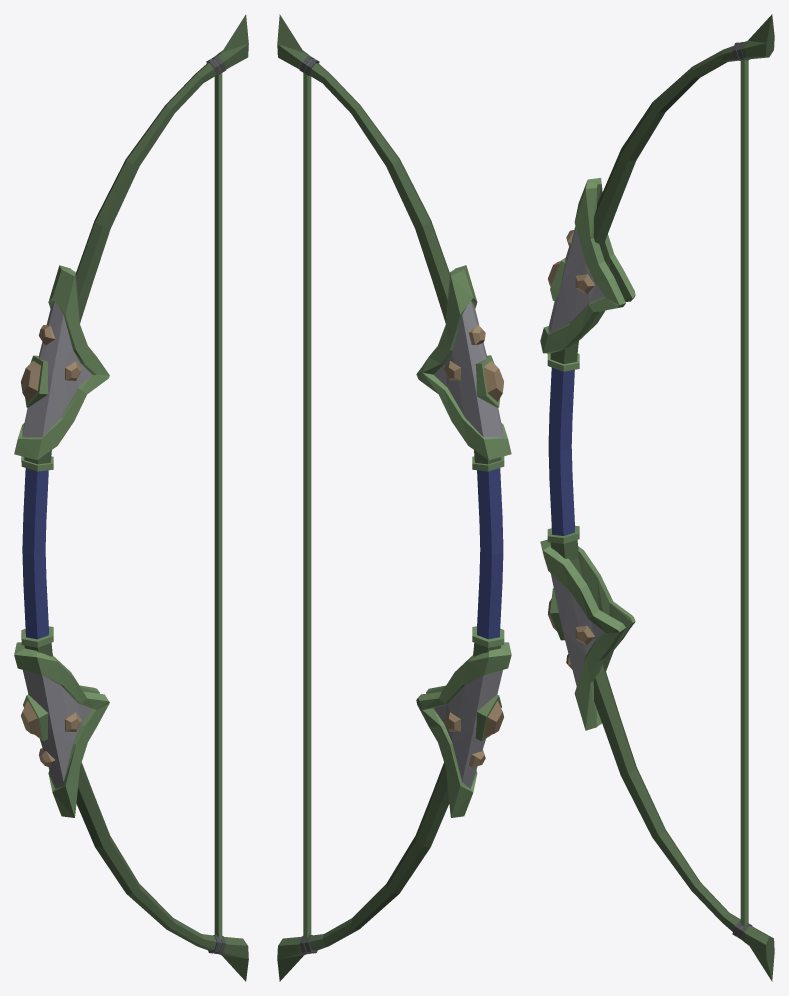
File: bow-craft-7.glb
3 views of the same model, side by side, from view 1: azimuth 30°, elevation 25°; view 2: azimuth 150°, elevation 25°; view 3: azimuth 330°, elevation 25° (orthographic).
Parts seen in each view (by area): view 1: bow_7; view 2: bow_7; view 3: bow_7.
Part boxes in pixels (left/top/right/bottom): bow_7: left=14, top=14, right=248, bottom=981; bow_7: left=277, top=14, right=511, bottom=981; bow_7: left=540, top=14, right=774, bottom=981.
Bounding box in the file's own units: 31.63 × 126 × 4.78.
1 material, 1 textured.
